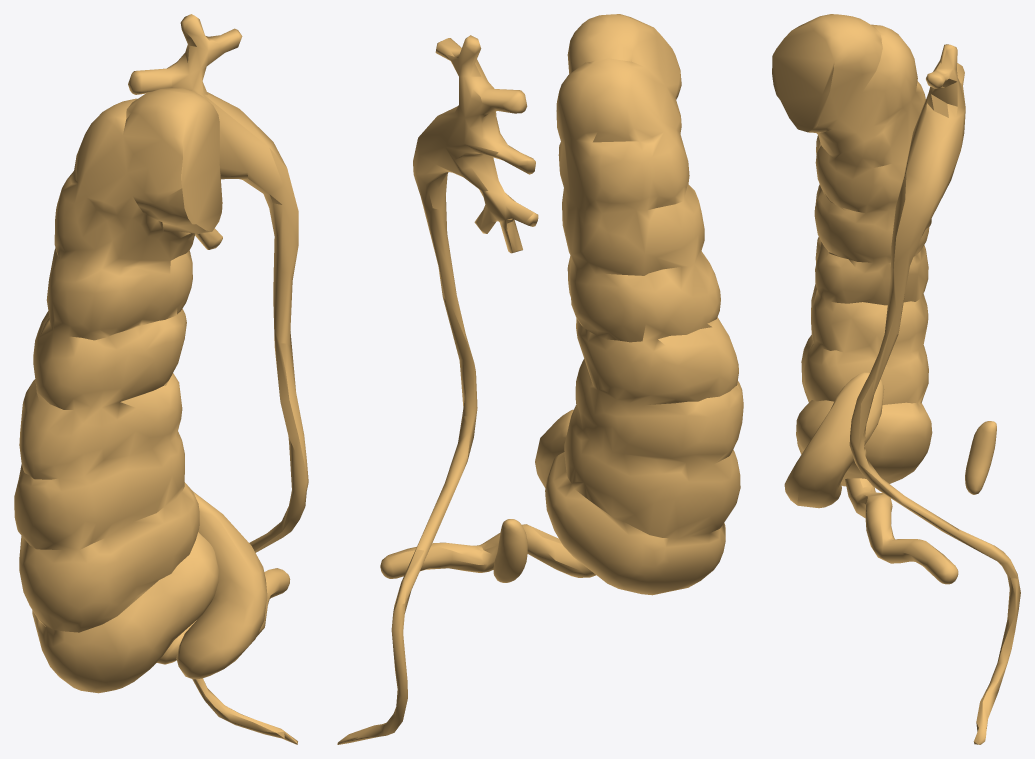
Rendered from fossa-iliaca-direita.glb.
3 renders of one model, left to right at view 1: azimuth 30°, elevation 25°; view 2: azimuth 150°, elevation 25°; view 3: azimuth 270°, elevation 25°, orthographic. The views are drawn at different scales.
Parts seen in each view (by area): view 1: colon-ascendente, ureter-direito, ceco, apendice; view 2: colon-ascendente, ureter-direito, apendice, ovario-direito, ceco; view 3: colon-ascendente, ureter-direito, ceco, apendice, ovario-direito.
Part boxes in pixels (left/top/right/bottom): colon-ascendente: left=14, top=88, right=222, bottom=693; ureter-direito: left=128, top=14, right=308, bottom=744; ceco: left=176, top=491, right=267, bottom=679; apendice: left=157, top=568, right=290, bottom=664; colon-ascendente: left=545, top=14, right=743, bottom=595; ureter-direito: left=337, top=35, right=538, bottom=744; apendice: left=380, top=524, right=595, bottom=578; ovario-direito: left=493, top=519, right=527, bottom=582; ceco: left=535, top=409, right=573, bottom=487; colon-ascendente: left=772, top=14, right=932, bottom=486; ureter-direito: left=849, top=44, right=1020, bottom=744; ceco: left=784, top=372, right=884, bottom=508; apendice: left=845, top=478, right=958, bottom=584; ovario-direito: left=965, top=421, right=996, bottom=494.
Size of the model in its own units: 0.1174 by 0.2454 by 0.0852.
